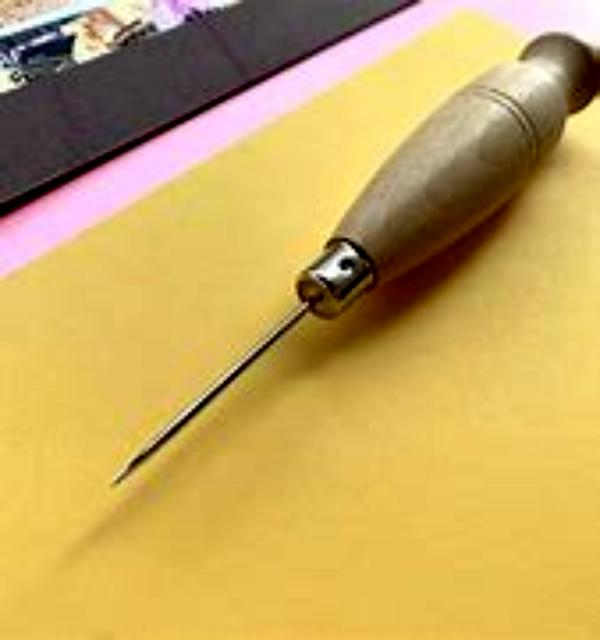ice pick: (111, 28, 600, 483)
